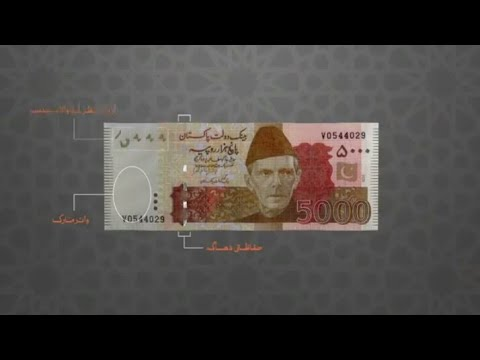5000 rupee: (105, 123, 385, 241)
